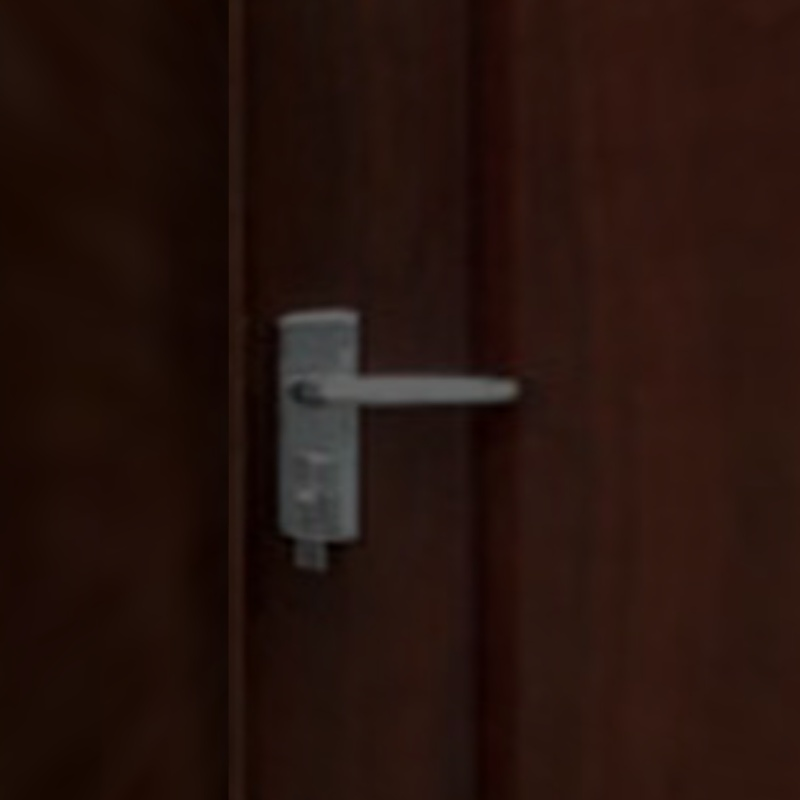handle: (218, 301, 539, 599)
